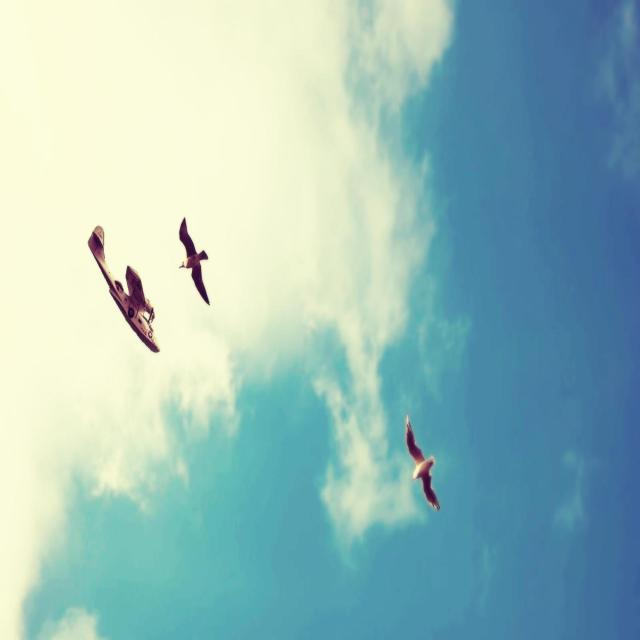airplane: (87, 225, 160, 353)
